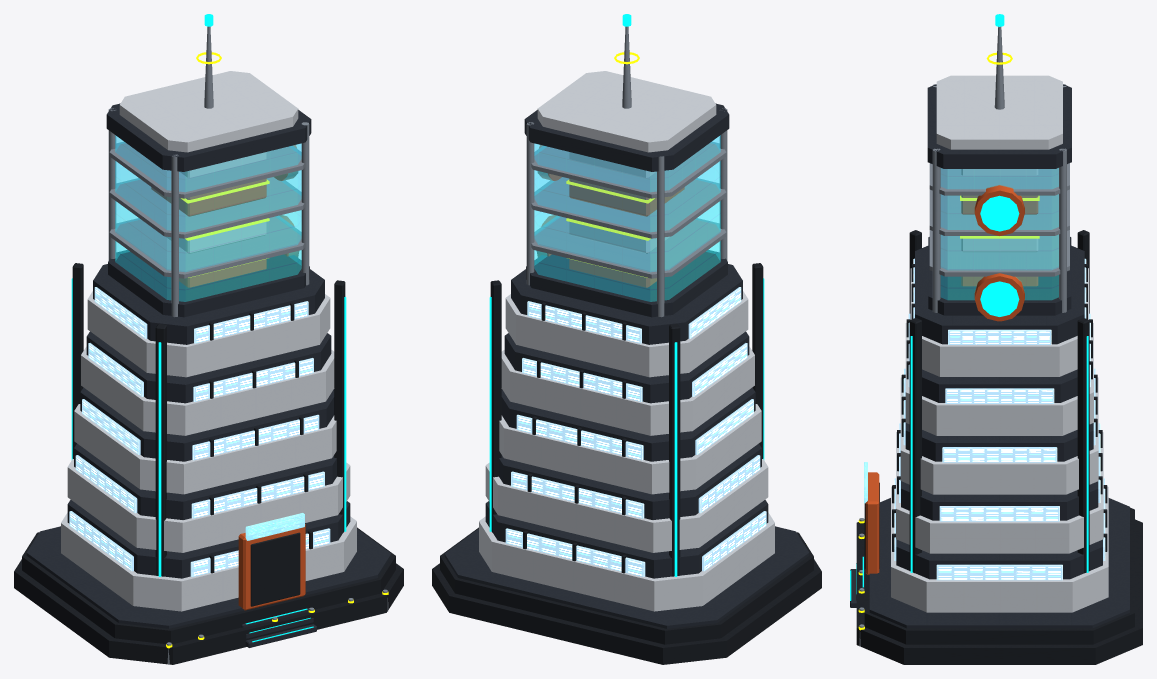
The model's file is bldg_14_r1_01.glb.
3 renders of one model, left to right at view 1: azimuth 30°, elevation 25°; view 2: azimuth 150°, elevation 25°; view 3: azimuth 270°, elevation 25°, orthographic.
Visible parts, largest first — view 1: Bldg14_C01_aero_white, Bldg14_C01_carbon_slate, Bldg14_C01_gunmetal, Bldg14_C01_glass_cyan, Bldg14_C01_steel_machined, Bldg14_C01_window_lit, Bldg14_C01_accent_orange, Bldg14_C01_led_cyan, Bldg14_C01_led_amber, Bldg14_C01_marquee; view 2: Bldg14_C01_aero_white, Bldg14_C01_carbon_slate, Bldg14_C01_gunmetal, Bldg14_C01_glass_cyan, Bldg14_C01_steel_machined, Bldg14_C01_window_lit, Bldg14_C01_accent_orange, Bldg14_C01_led_cyan, Bldg14_C01_led_amber; view 3: Bldg14_C01_aero_white, Bldg14_C01_carbon_slate, Bldg14_C01_gunmetal, Bldg14_C01_steel_machined, Bldg14_C01_window_lit, Bldg14_C01_glass_cyan, Bldg14_C01_accent_orange, Bldg14_C01_led_cyan, Bldg14_C01_led_amber.
Part boxes in pixels (bbox=[...]): Bldg14_C01_aero_white: bbox=[61, 71, 356, 611]; Bldg14_C01_carbon_slate: bbox=[26, 103, 391, 647]; Bldg14_C01_gunmetal: bbox=[14, 263, 403, 664]; Bldg14_C01_glass_cyan: bbox=[115, 135, 301, 301]; Bldg14_C01_steel_machined: bbox=[108, 26, 388, 664]; Bldg14_C01_window_lit: bbox=[69, 287, 330, 576]; Bldg14_C01_accent_orange: bbox=[151, 145, 305, 610]; Bldg14_C01_led_cyan: bbox=[71, 14, 346, 642]; Bldg14_C01_led_amber: bbox=[166, 52, 388, 648]; Bldg14_C01_marquee: bbox=[245, 513, 304, 540]; Bldg14_C01_aero_white: bbox=[479, 71, 774, 611]; Bldg14_C01_carbon_slate: bbox=[444, 103, 809, 628]; Bldg14_C01_gunmetal: bbox=[432, 263, 821, 664]; Bldg14_C01_glass_cyan: bbox=[534, 135, 720, 301]; Bldg14_C01_steel_machined: bbox=[526, 26, 805, 543]; Bldg14_C01_window_lit: bbox=[505, 287, 766, 576]; Bldg14_C01_accent_orange: bbox=[537, 145, 684, 287]; Bldg14_C01_led_cyan: bbox=[489, 14, 764, 576]; Bldg14_C01_led_amber: bbox=[566, 52, 654, 277]; Bldg14_C01_aero_white: bbox=[891, 75, 1108, 612]; Bldg14_C01_carbon_slate: bbox=[850, 84, 1129, 628]; Bldg14_C01_gunmetal: bbox=[856, 230, 1142, 664]; Bldg14_C01_steel_machined: bbox=[859, 26, 1069, 646]; Bldg14_C01_window_lit: bbox=[894, 258, 1105, 580]; Bldg14_C01_glass_cyan: bbox=[941, 168, 1058, 299]; Bldg14_C01_accent_orange: bbox=[865, 185, 1038, 574]; Bldg14_C01_led_cyan: bbox=[850, 14, 1088, 600]; Bldg14_C01_led_amber: bbox=[858, 52, 1039, 630].
Bounding box in the file's own units: 12 × 22.22 × 10.23.
Materials: 10 (10 with a texture image).
